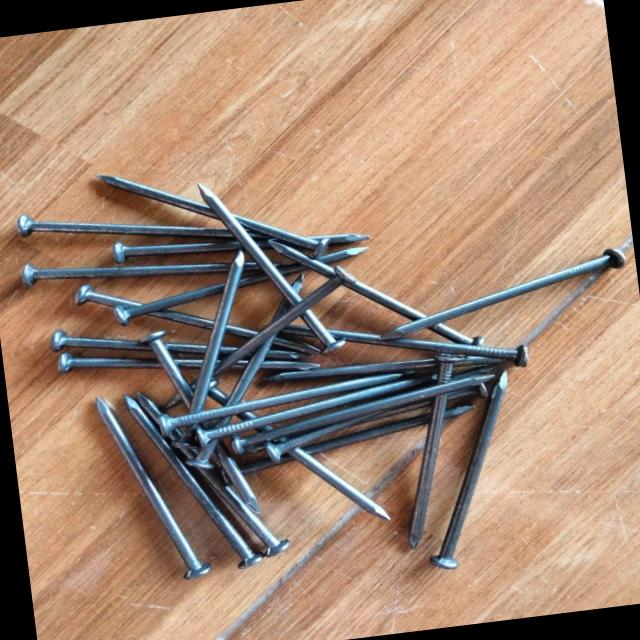3x8 nail: (372, 338, 560, 584), (72, 377, 230, 600), (357, 233, 639, 354)
